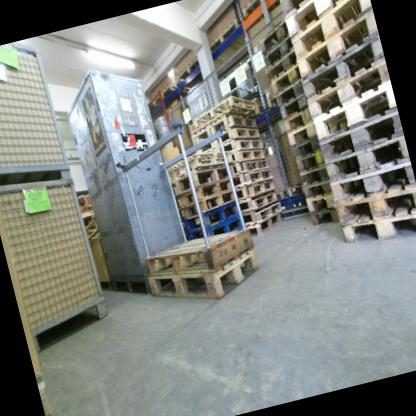pallet: (145, 244, 264, 311), (295, 34, 388, 103), (286, 16, 381, 82), (308, 81, 398, 143), (284, 0, 376, 56), (302, 65, 391, 117), (317, 113, 405, 165), (322, 140, 409, 186), (339, 208, 416, 253), (329, 166, 415, 206), (335, 186, 416, 226), (189, 89, 258, 131), (281, 0, 368, 32), (170, 162, 233, 197), (177, 188, 240, 221), (166, 148, 227, 182), (174, 177, 236, 208), (180, 201, 241, 231), (205, 16, 249, 57), (148, 75, 196, 111), (186, 215, 244, 241), (207, 110, 258, 139), (262, 48, 300, 81), (173, 54, 209, 87), (238, 0, 286, 23), (267, 64, 301, 95), (276, 89, 310, 119), (244, 202, 283, 226), (236, 179, 277, 201), (223, 135, 264, 157), (274, 77, 305, 106), (222, 123, 261, 146), (234, 166, 273, 188), (281, 105, 312, 131), (247, 217, 285, 238), (238, 98, 268, 123), (286, 120, 316, 145), (229, 146, 264, 166), (232, 158, 270, 176), (83, 210, 103, 244), (240, 193, 277, 211), (310, 206, 340, 228), (292, 136, 322, 158), (299, 165, 328, 186), (307, 192, 335, 213), (296, 152, 325, 171), (302, 180, 331, 198), (275, 187, 290, 206), (285, 183, 303, 198), (264, 97, 279, 111)
stillage: (0, 167, 117, 355), (0, 36, 75, 198)
